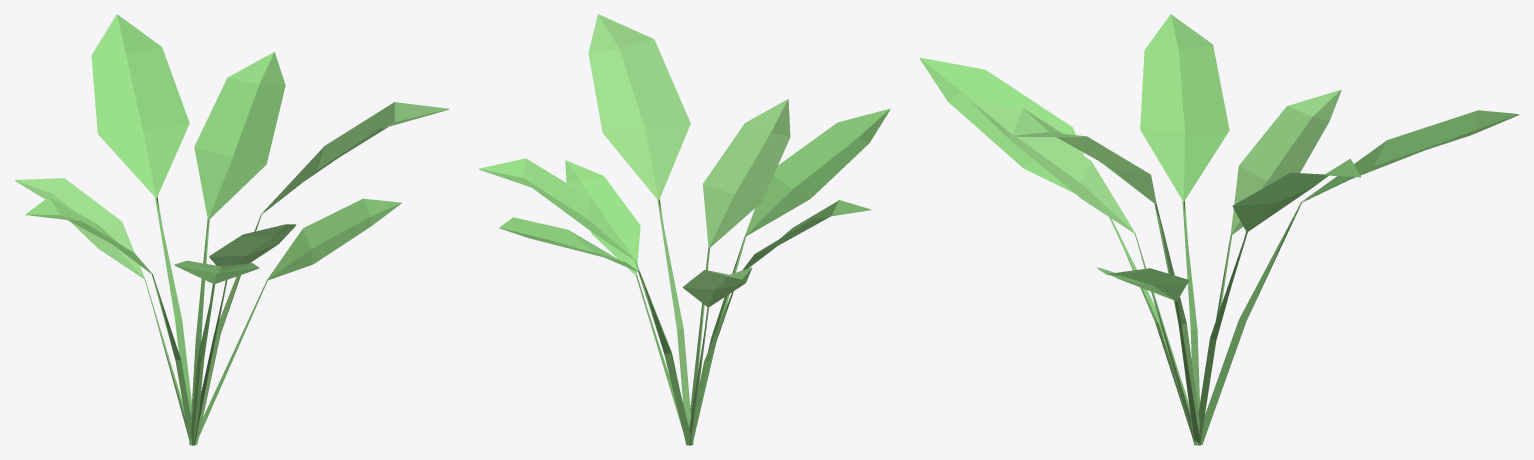
Rendered from Plant_j_TwoS_05.fbx.
3 renders of one model, left to right at view 1: azimuth 30°, elevation 25°; view 2: azimuth 150°, elevation 25°; view 3: azimuth 270°, elevation 25°, orthographic. The views are drawn at different scales.
Parts seen in each view (by area): view 1: Plant_j_TwoS_05; view 2: Plant_j_TwoS_05; view 3: Plant_j_TwoS_05.
Part boxes in pixels (x1,y1,x2,y2): Plant_j_TwoS_05: (14,14,448,445); Plant_j_TwoS_05: (478,14,890,445); Plant_j_TwoS_05: (919,14,1519,445).
Size of the model in its own units: 52.29 by 49.32 by 65.68.
